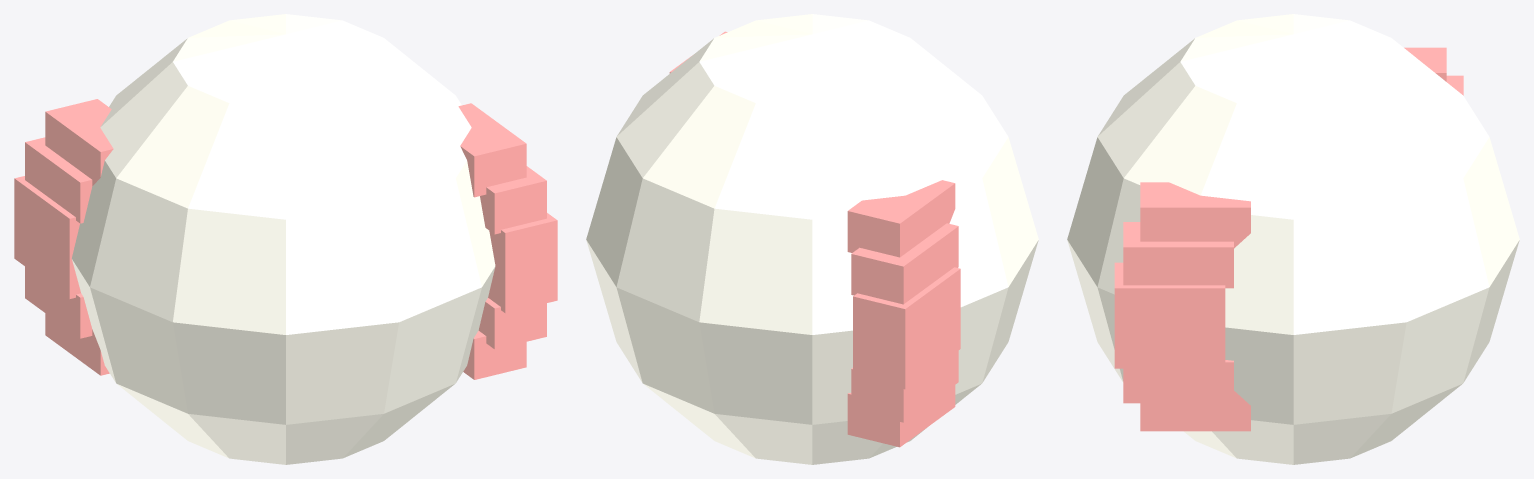
The model's file is modelo.glb.
The picture shows the model from 3 angles, left to right: view 1: azimuth 30°, elevation 25°; view 2: azimuth 150°, elevation 25°; view 3: azimuth 270°, elevation 25°; orthographic projection.
Visible parts, largest first — view 1: pelota; view 2: pelota; view 3: pelota.
Part boxes in pixels (<box>): pelota: <box>14,14,557,464</box>; pelota: <box>586,14,1038,464</box>; pelota: <box>1067,14,1519,464</box>.
Size of the model in its own units: 0.018 by 0.018 by 0.018.
